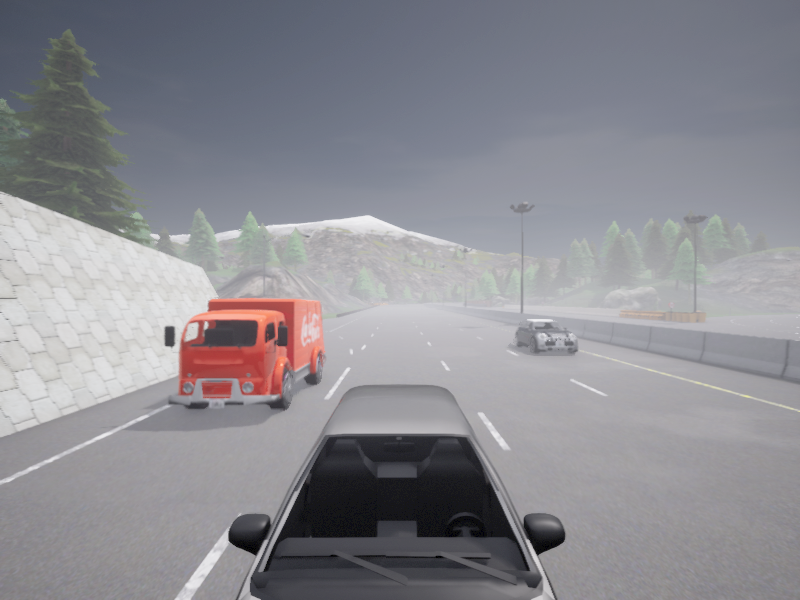vehicle: (228, 384, 565, 599), (164, 298, 325, 409), (515, 319, 577, 353)
